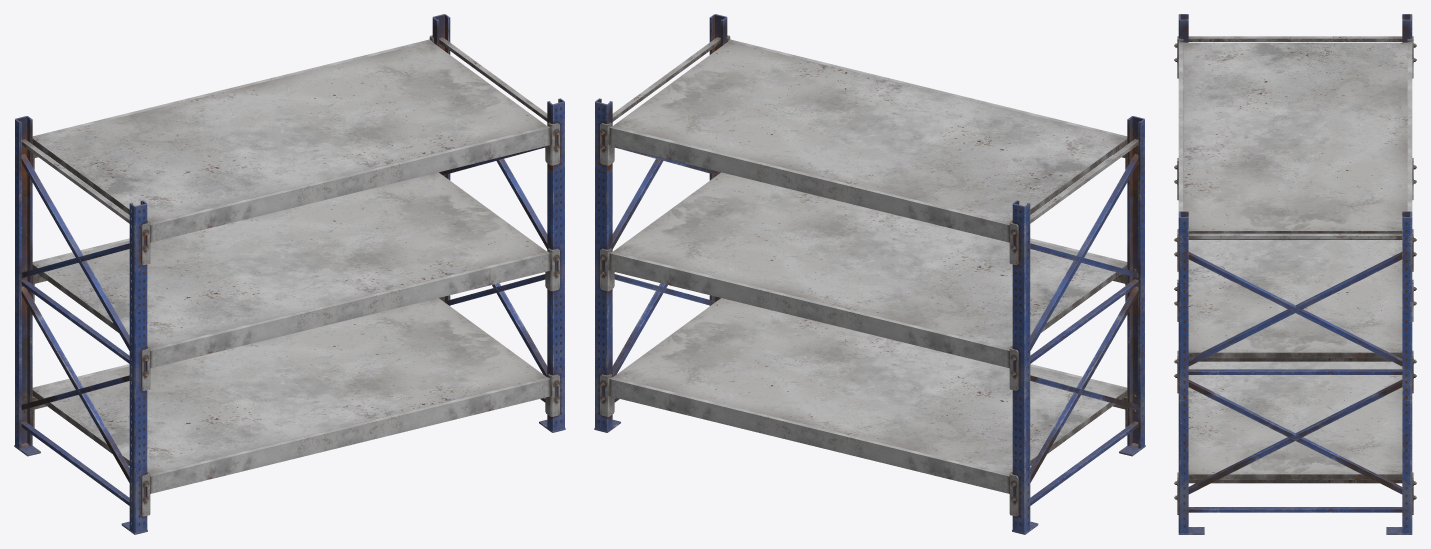
File: SM_Metal_Rack.glb
3 renders of one model, left to right at view 1: azimuth 30°, elevation 25°; view 2: azimuth 150°, elevation 25°; view 3: azimuth 270°, elevation 25°, orthographic. The views are drawn at different scales.
Parts seen in each view (by area): view 1: SM_Metal_Rack; view 2: SM_Metal_Rack; view 3: SM_Metal_Rack.
Part boxes in pixels (box(x1,y1,x2,y2)): SM_Metal_Rack: box(14, 14, 565, 534); SM_Metal_Rack: box(594, 14, 1145, 534); SM_Metal_Rack: box(1174, 14, 1416, 534).
Bounding box in the file's own units: 2.79 × 2.03 × 1.4.
1 material, 1 textured.
